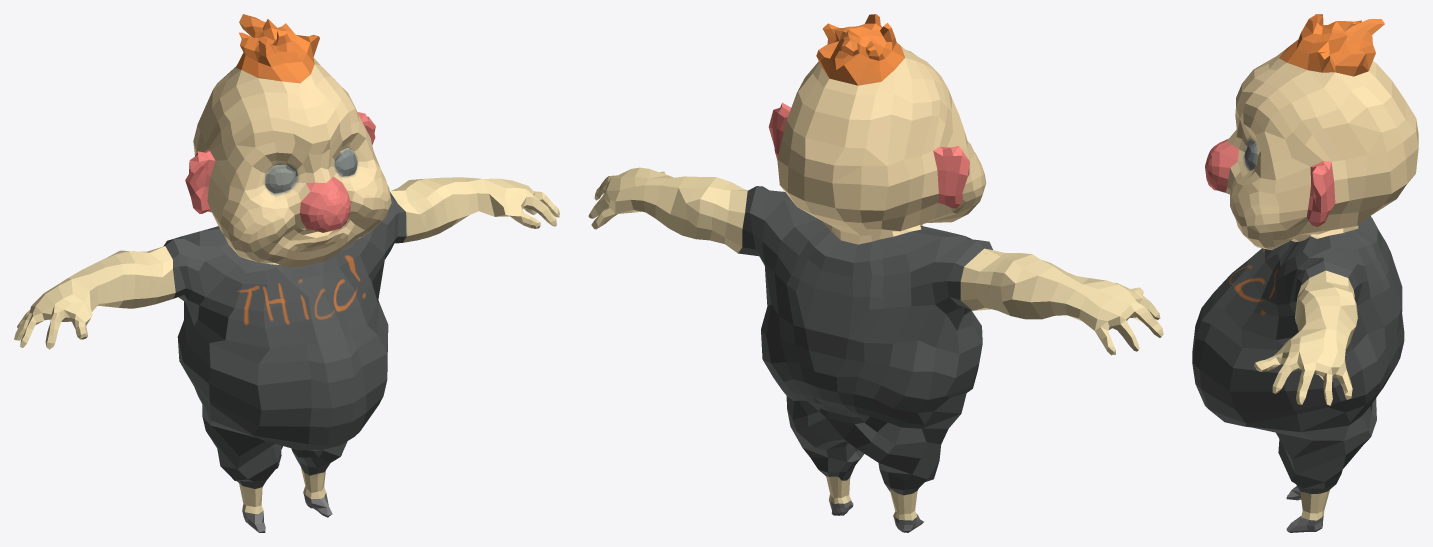
Rendered from Dwarf_paint_text.fbx.
3 views of the same model, side by side, from view 1: azimuth 30°, elevation 25°; view 2: azimuth 150°, elevation 25°; view 3: azimuth 270°, elevation 25° (orthographic). The views are drawn at different scales.
Parts seen in each view (by area): view 1: Dwarfninjaboy3_maya nextandjust; view 2: Dwarfninjaboy3_maya nextandjust; view 3: Dwarfninjaboy3_maya nextandjust.
Boxes of the visible parts, x1,y1,x2,y2 form: Dwarfninjaboy3_maya nextandjust: (14, 14, 559, 532); Dwarfninjaboy3_maya nextandjust: (588, 14, 1163, 532); Dwarfninjaboy3_maya nextandjust: (1192, 14, 1418, 532).
Bounding box in the file's own units: 1112 × 957 × 393.
